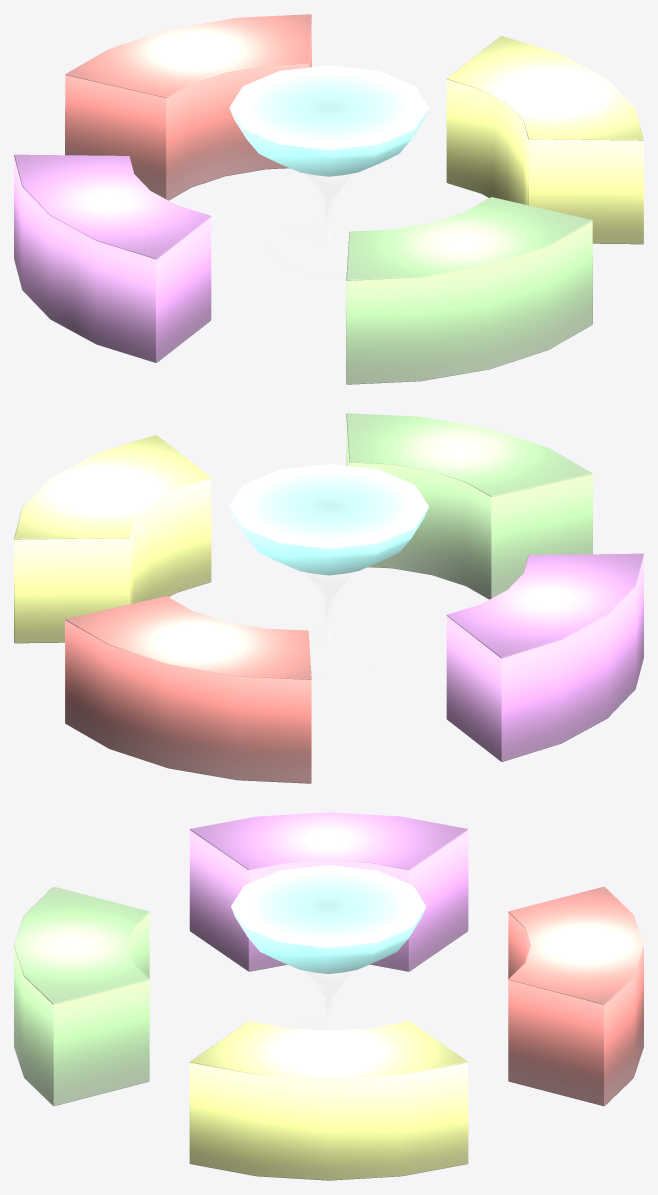
File: Center_Sofa.fbx
The picture shows the model from 3 angles, top to bottom: view 1: azimuth 30°, elevation 25°; view 2: azimuth 150°, elevation 25°; view 3: azimuth 270°, elevation 25°; orthographic projection. The views are drawn at different scales.
Parts seen in each view (by area): view 1: pCube24; view 2: pCube24; view 3: pCube24.
Part boxes in pixels (box(x1,y1,x2,y2)): pCube24: box(14, 14, 643, 384); pCube24: box(14, 413, 643, 783); pCube24: box(14, 812, 643, 1180).
Bounding box in the file's own units: 423 × 105 × 423.
Materials: 1 (1 with a texture image).
